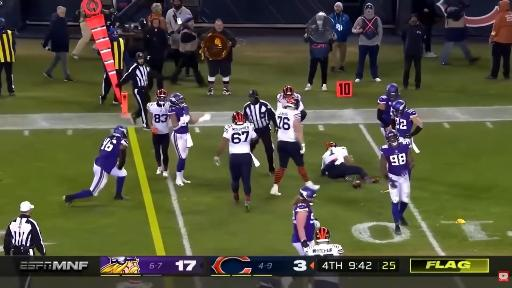Helmet: (299, 186, 317, 204), (391, 99, 406, 116), (169, 93, 186, 107), (316, 227, 330, 242), (386, 130, 399, 146), (231, 111, 245, 125), (386, 84, 399, 99), (156, 89, 168, 104), (113, 126, 127, 138), (286, 97, 299, 109), (283, 86, 294, 97), (326, 142, 337, 149), (249, 89, 258, 97)
Jersey: (95, 135, 128, 173), (380, 141, 410, 176), (223, 123, 257, 153), (292, 204, 315, 242), (276, 108, 300, 141), (147, 102, 170, 134), (394, 110, 416, 137), (378, 95, 399, 123), (169, 106, 190, 134), (322, 147, 348, 168), (305, 244, 343, 255), (294, 93, 304, 111)
Player: (63, 126, 128, 205), (214, 112, 259, 211), (271, 97, 313, 195), (169, 93, 210, 185), (380, 130, 413, 234), (321, 142, 378, 183), (147, 90, 170, 177), (292, 186, 319, 255), (392, 100, 422, 153), (392, 100, 422, 141), (377, 84, 400, 135), (305, 227, 343, 255), (277, 86, 306, 121)
